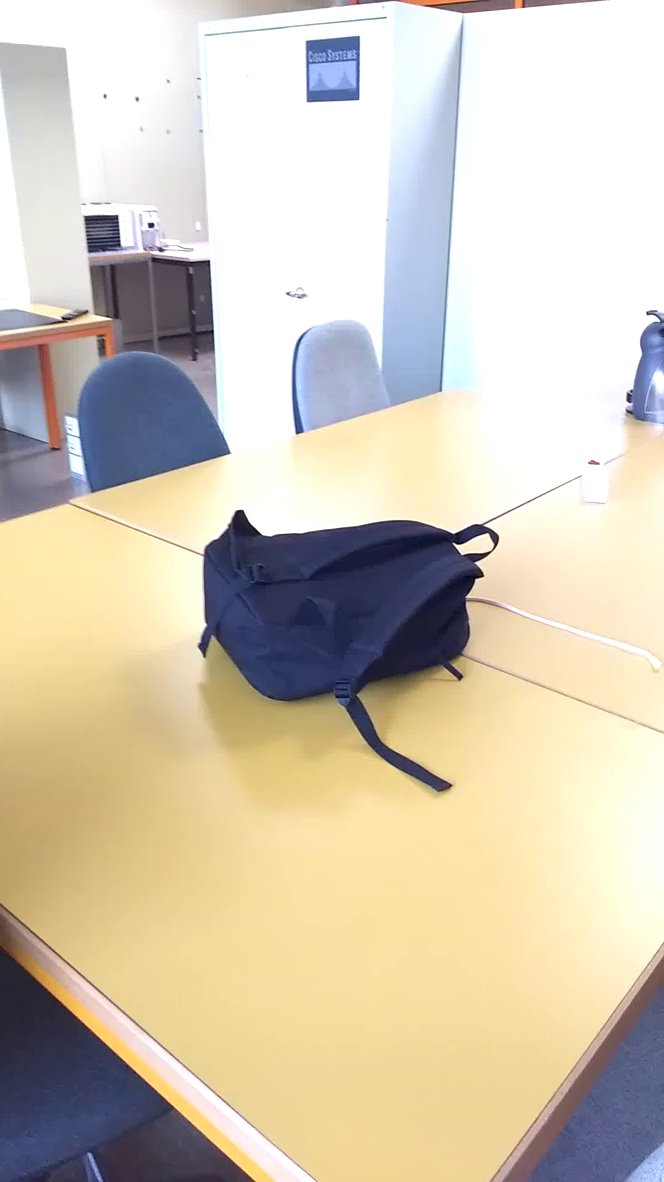bag: (170, 481, 525, 814)
chair: (73, 342, 254, 506), (279, 312, 402, 447)
